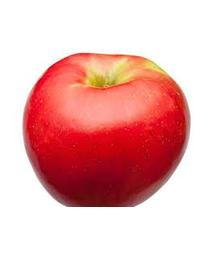apple: (21, 52, 190, 207)
